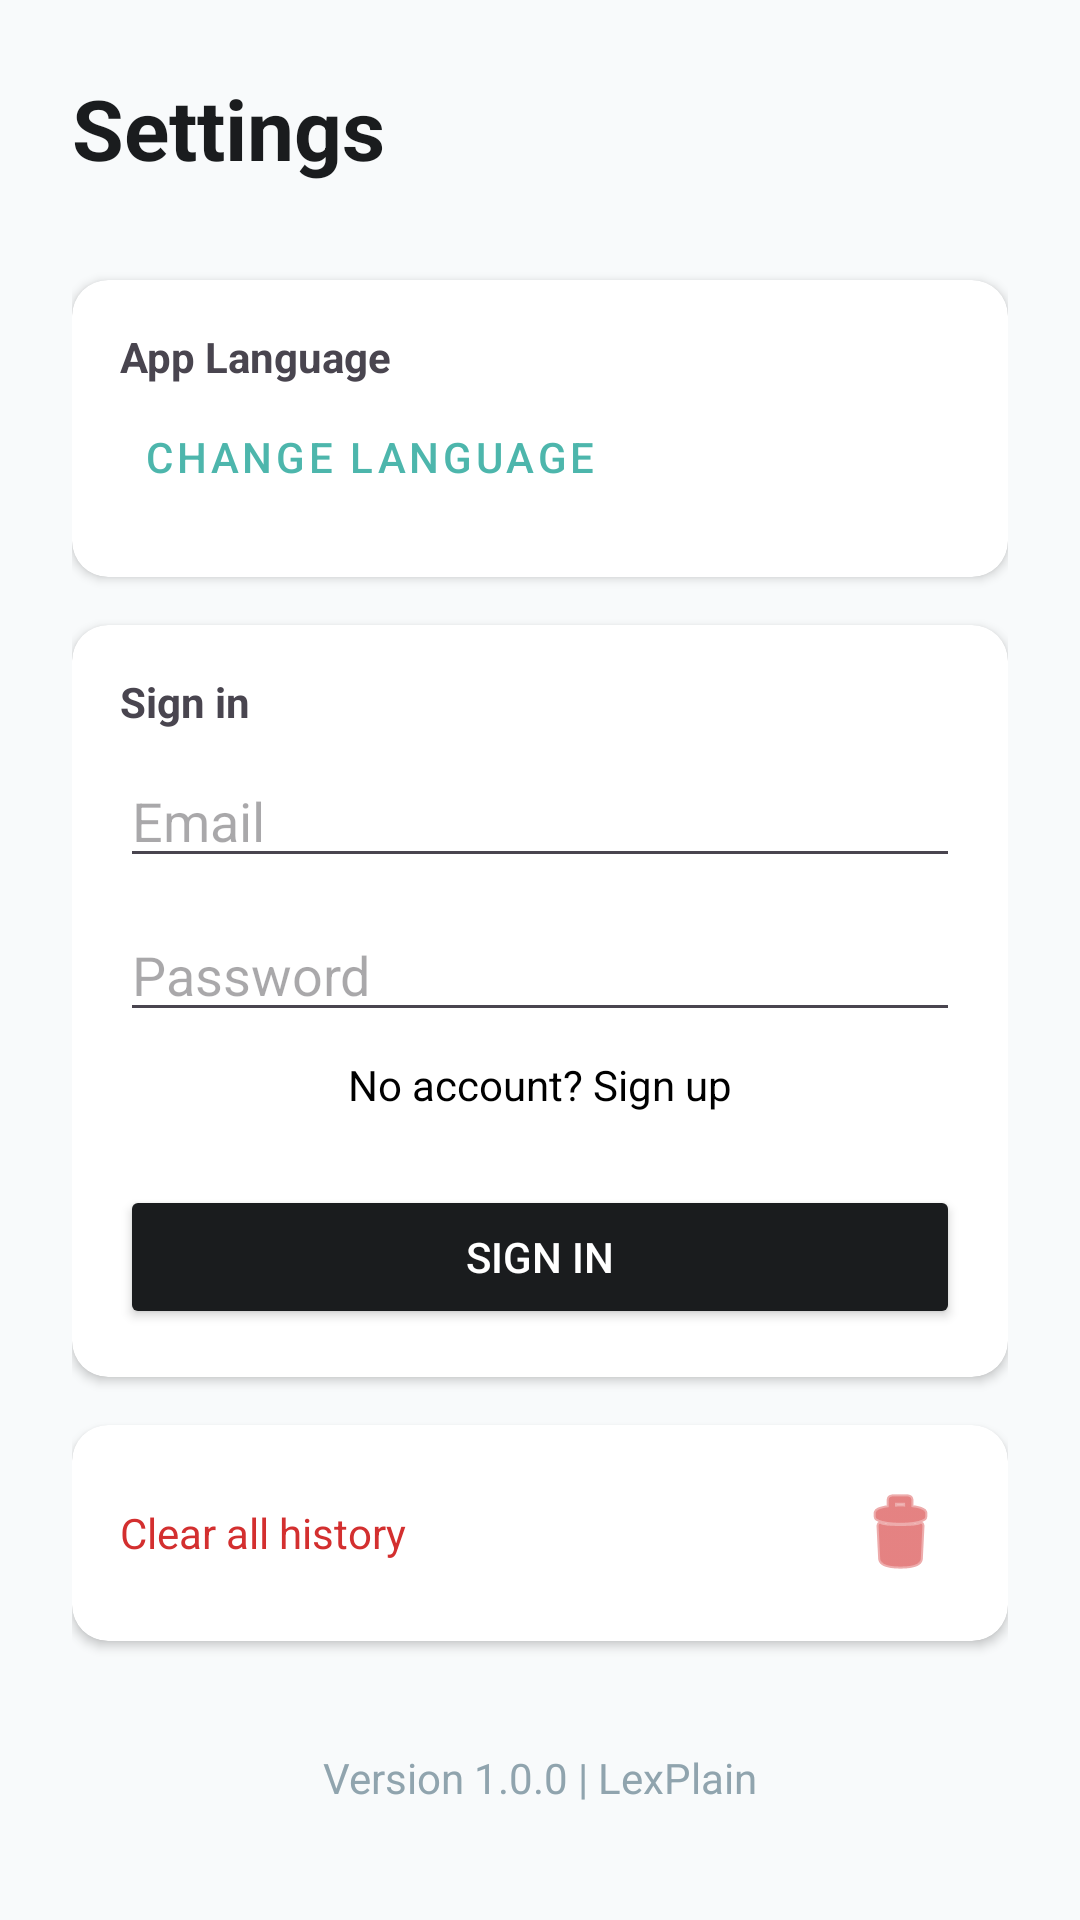

Icons on this 1080*1920 Android screen, each with the point to tap as (x=x, y=y):
delete: (x=900, y=1531)
